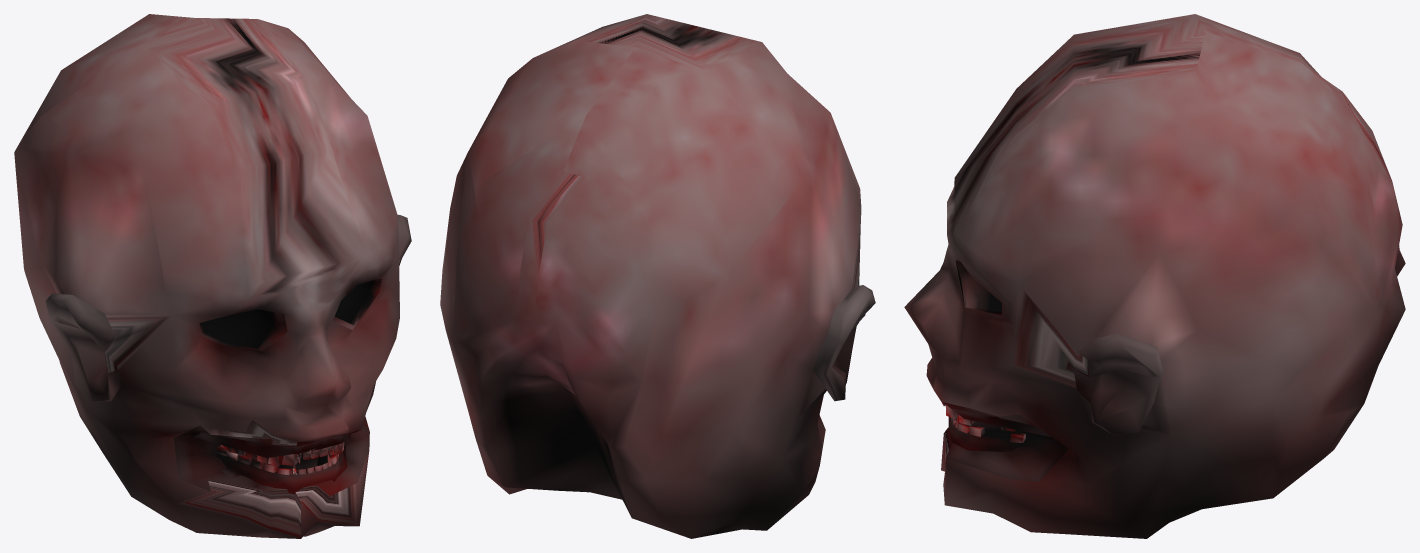
The model's file is cabeza fea.glb.
The picture shows the model from 3 angles, left to right: view 1: azimuth 30°, elevation 25°; view 2: azimuth 150°, elevation 25°; view 3: azimuth 270°, elevation 25°; orthographic projection. The views are drawn at different scales.
Visible parts, largest first — view 1: cabeza fea; view 2: cabeza fea; view 3: cabeza fea.
Part boxes in pixels (box(x1,y1,x2,y2)): cabeza fea: box(14, 14, 411, 538); cabeza fea: box(440, 14, 875, 538); cabeza fea: box(904, 14, 1405, 538).
Bounding box in the file's own units: 0.5366 × 0.6648 × 0.6408.
Materials: 2 (1 with a texture image).
